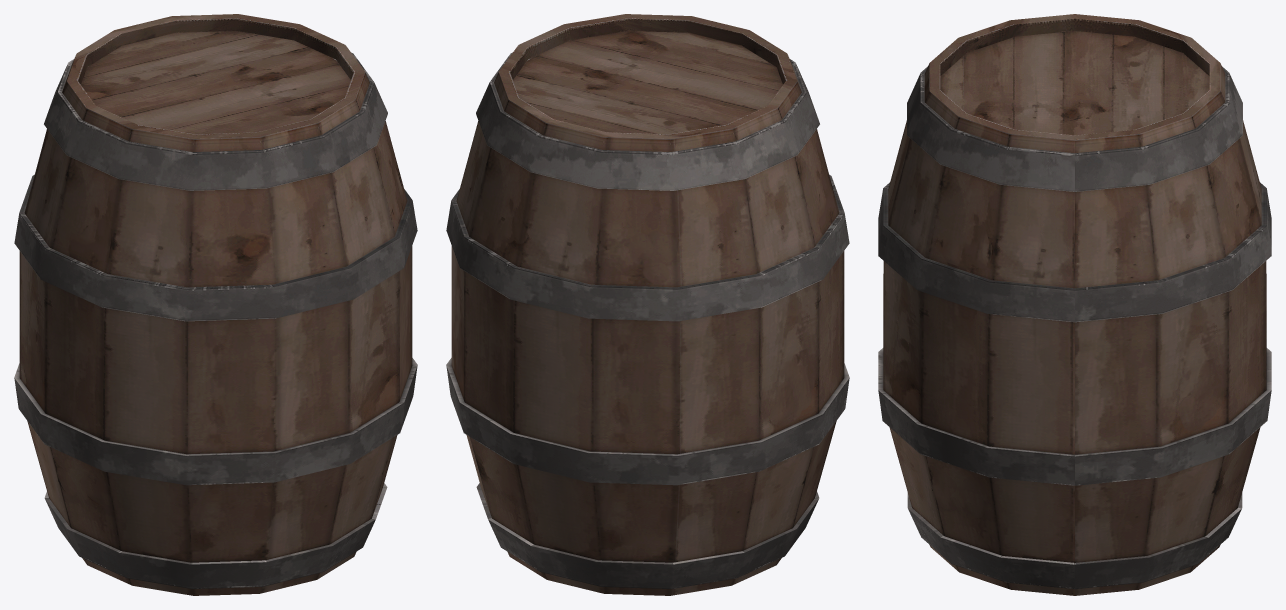
The model's file is Barrel.fbx.
3 views of the same model, side by side, from view 1: azimuth 30°, elevation 25°; view 2: azimuth 150°, elevation 25°; view 3: azimuth 270°, elevation 25° (orthographic).
Parts seen in each view (by area): view 1: Barrel; view 2: Barrel; view 3: Barrel.
Boxes of the visible parts, <box> form: Barrel: <box>14,14,417,595</box>; Barrel: <box>446,14,849,595</box>; Barrel: <box>878,14,1271,595</box>.
Size of the model in its own units: 64.33 by 80.26 by 62.71.
